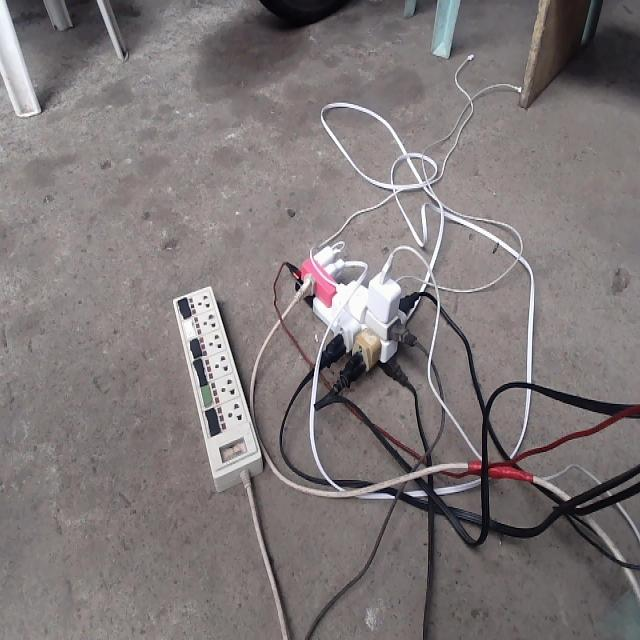-: (286, 238, 425, 386)
